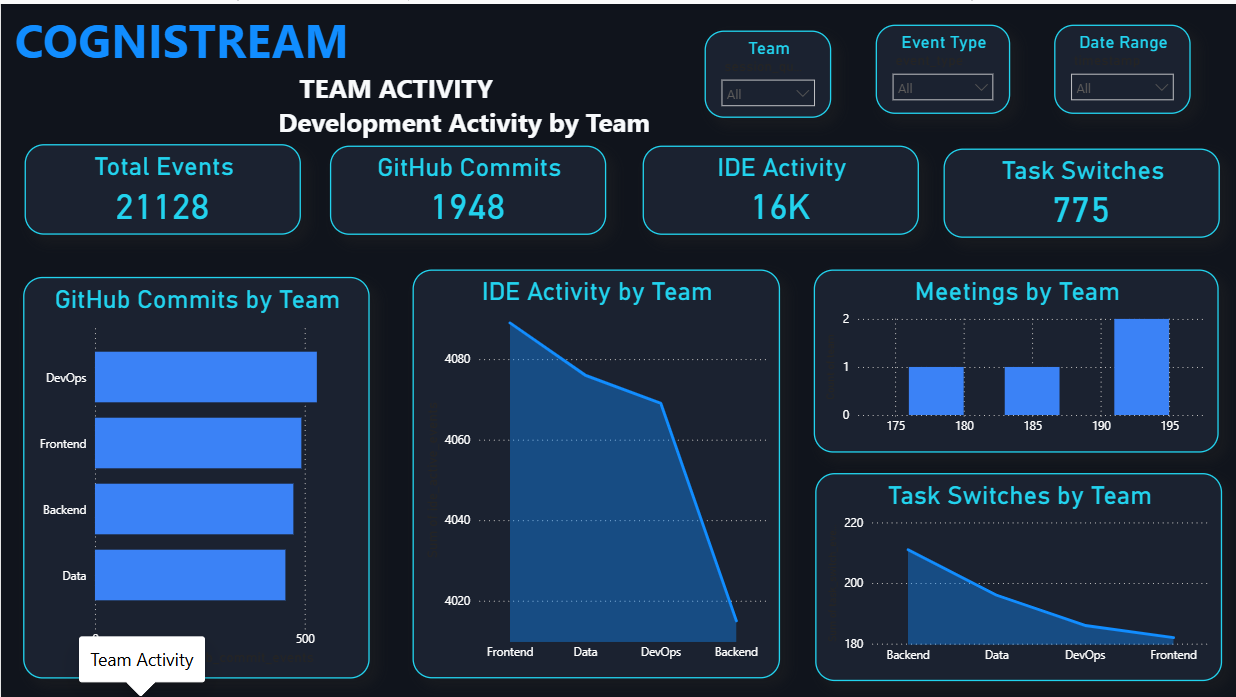

The dashboard page shown, as its layout file describes it:
{"tool":"powerbi","page":{"name":"Team Activity","canvas":[1280,720],"ordinal":1},"visuals":[{"type":"textbox","box":[9.8,0,748.4,173.6],"z":0},{"type":"card","title":"Total Events","fields":{"Values":["Count(event_overview.event_id)"]},"box":[24.4,145,285.6,93.9],"z":1000},{"type":"card","title":"GitHub Commits","fields":{"Values":["Sum(team_activity.github_commit_events)"]},"box":[339.4,147,285.6,91.9],"z":2000},{"type":"card","title":"IDE Activity","fields":{"Values":["Sum(team_activity.ide_active_events)"]},"box":[662.1,147,285.6,91.9],"z":3000},{"type":"card","title":"Task Switches","fields":{"Values":["Sum(team_activity.task_switch_events)"]},"box":[973.2,149,285.6,91.9],"z":4000},{"type":"clusteredBarChart","title":"GitHub Commits by Team","fields":{"Category":["team_activity.team"],"Y":["Sum(team_activity.github_commit_events)"]},"box":[23.5,281.7,358,414.7],"z":5000},{"type":"stackedAreaChart","title":"IDE Activity by Team","fields":{"Category":["team_activity.team"],"Y":["Sum(team_activity.ide_active_events)"]},"box":[424.5,273.9,379.5,422.5],"z":6000},{"type":"clusteredColumnChart","title":"Meetings by Team","fields":{"Category":["team_activity.meeting_events"],"Y":["CountNonNull(team_activity.team)"]},"box":[839.2,273.9,418.6,189.1],"z":7000},{"type":"areaChart","title":"Task Switches by Team","fields":{"Category":["team_activity.team"],"Y":["Sum(team_activity.task_switch_events)"]},"box":[841.1,485.1,420.5,215],"z":8000},{"type":"slicer","title":"Team","fields":{"Values":["session_quality.session_quality_flag"]},"box":[726.1,26.8,131,90],"z":9000},{"type":"slicer","title":"Date Range","fields":{"Values":["event_overview.timestamp"]},"box":[1088.2,22.1,140.8,91.9],"z":10000},{"type":"slicer","title":"Event Type","fields":{"Values":["event_overview.event_type"]},"box":[902.8,21.5,138.9,91.9],"z":11000}]}

Visuals, with their boxes in screenshot pixels (x1, y1, x2, y2), scaled from the page's 1280x720 canvas onto the 1236x697 screenshot:
textbox: x1=9, y1=0, x2=732, y2=168
"Total Events" card: x1=24, y1=140, x2=299, y2=231
"GitHub Commits" card: x1=328, y1=142, x2=604, y2=231
"IDE Activity" card: x1=639, y1=142, x2=915, y2=231
"Task Switches" card: x1=940, y1=144, x2=1216, y2=233
"GitHub Commits by Team" clusteredBarChart: x1=23, y1=273, x2=368, y2=674
"IDE Activity by Team" stackedAreaChart: x1=410, y1=265, x2=776, y2=674
"Meetings by Team" clusteredColumnChart: x1=810, y1=265, x2=1215, y2=448
"Task Switches by Team" areaChart: x1=812, y1=470, x2=1218, y2=678
"Team" slicer: x1=701, y1=26, x2=828, y2=113
"Date Range" slicer: x1=1051, y1=21, x2=1187, y2=110
"Event Type" slicer: x1=872, y1=21, x2=1006, y2=110
